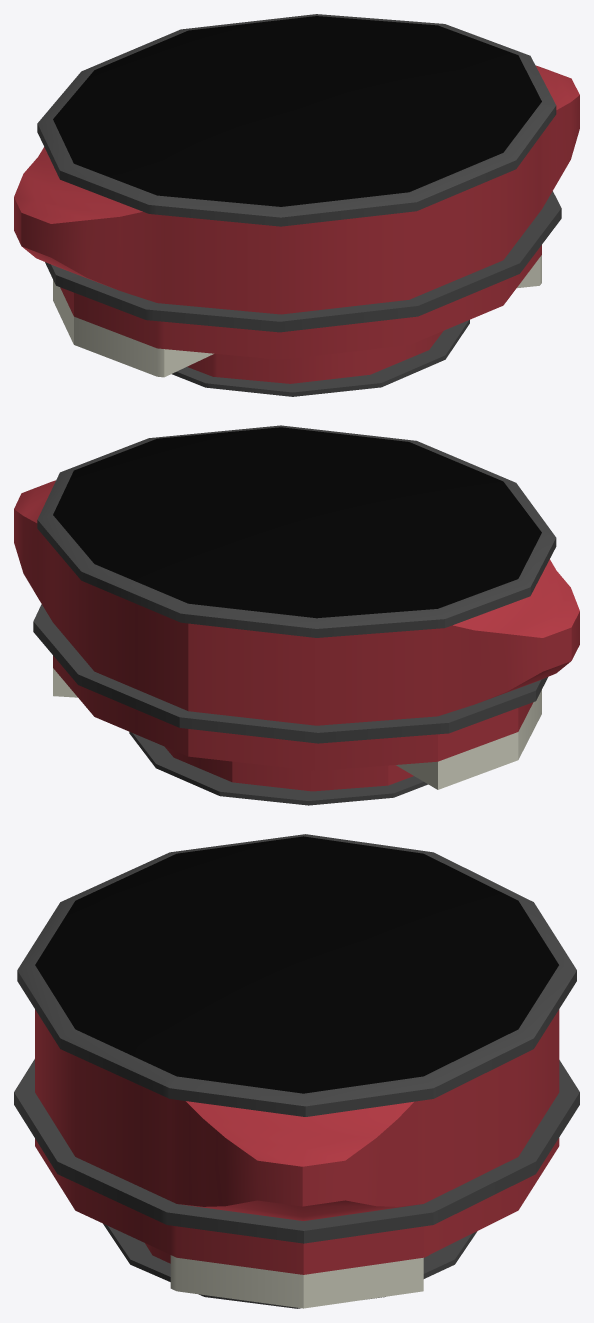
The model's file is CPU_Base.fbx.
The picture shows the model from 3 angles, top to bottom: view 1: azimuth 30°, elevation 25°; view 2: azimuth 150°, elevation 25°; view 3: azimuth 270°, elevation 25°; orthographic projection. The views are drawn at different scales.
Parts seen in each view (by area): view 1: UpperBody; view 2: UpperBody; view 3: UpperBody.
Part boxes in pixels (bbox=[...]): UpperBody: bbox=[14, 14, 579, 396]; UpperBody: bbox=[14, 425, 579, 805]; UpperBody: bbox=[14, 834, 579, 1308].
Bounding box in the file's own units: 0.9307 × 0.3482 × 0.6993.
